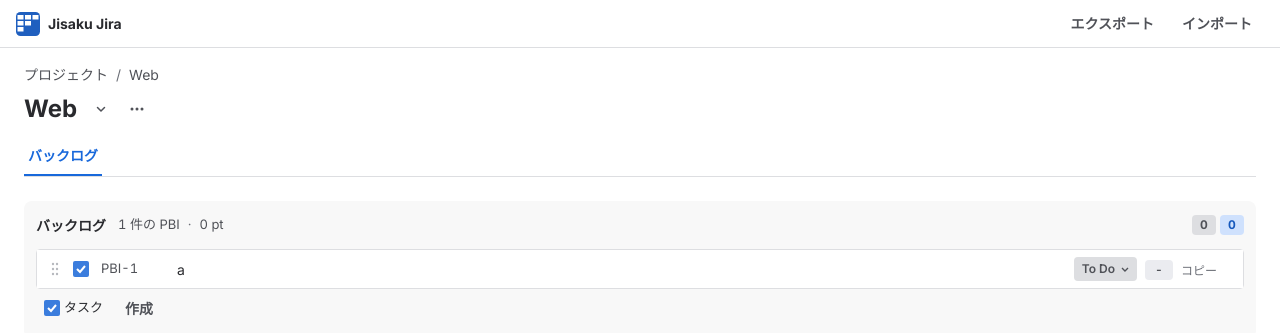
Test: プロジェクトの切り替え › Escape で閉じると切り替えず、切り替えのボタンにフォーカスが戻る
Step 1. Click the button named "プロジェクトを切り替え" → (101,109), box left=85, top=93, right=117, bottom=125
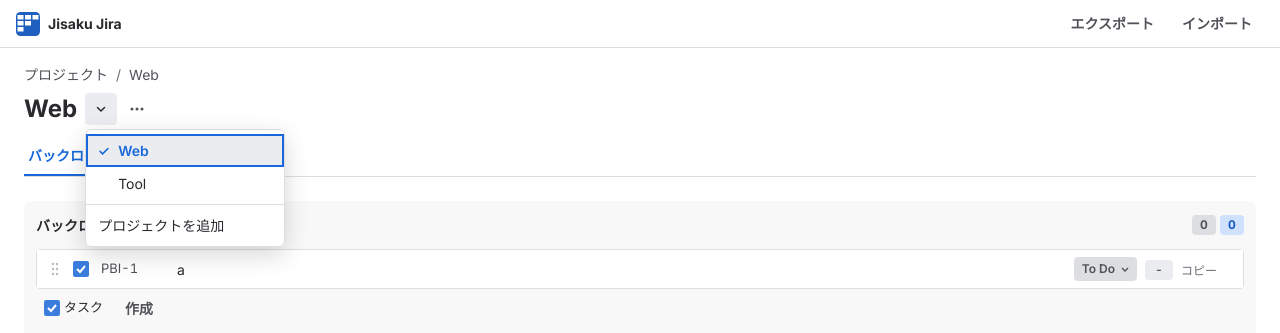
Step 2. Press Arrowdown Escape
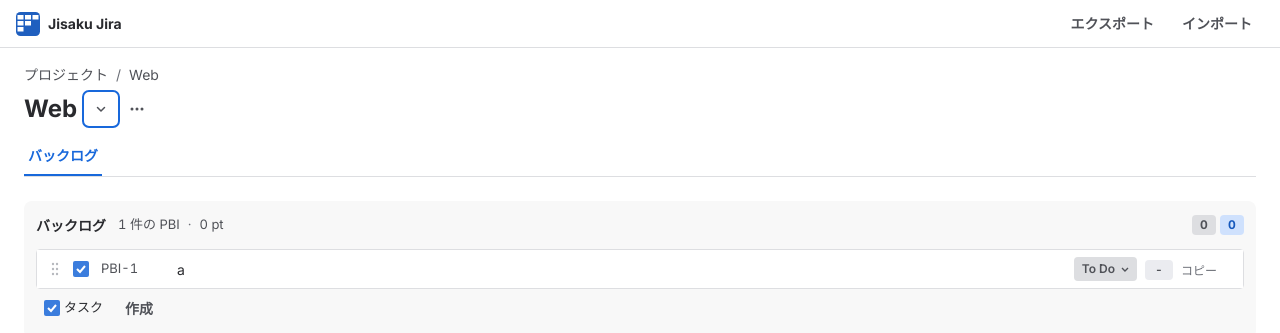
Expected: the text "Web" is shown, left=129, top=66, right=159, bottom=83
Expected: the menu is gone
